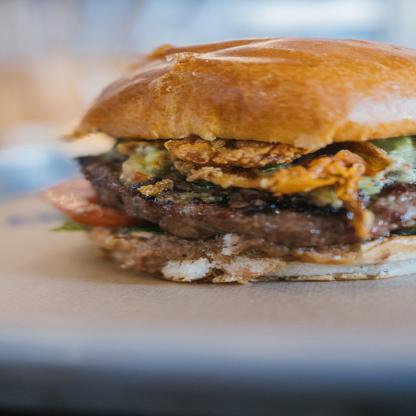Carne: (140, 192, 415, 241), (80, 157, 144, 212)
